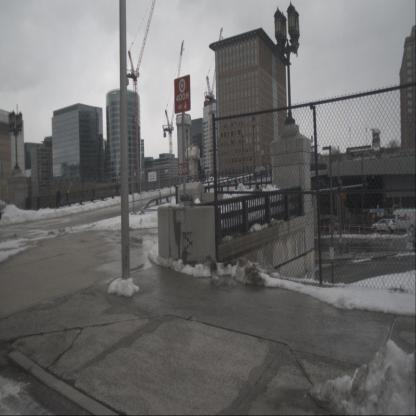human-pedestrian-adult: (56, 190, 62, 208)
vehicle-car: (371, 218, 395, 233), (318, 218, 340, 233), (254, 166, 267, 177)
vehicle-truck: (388, 209, 416, 235)
